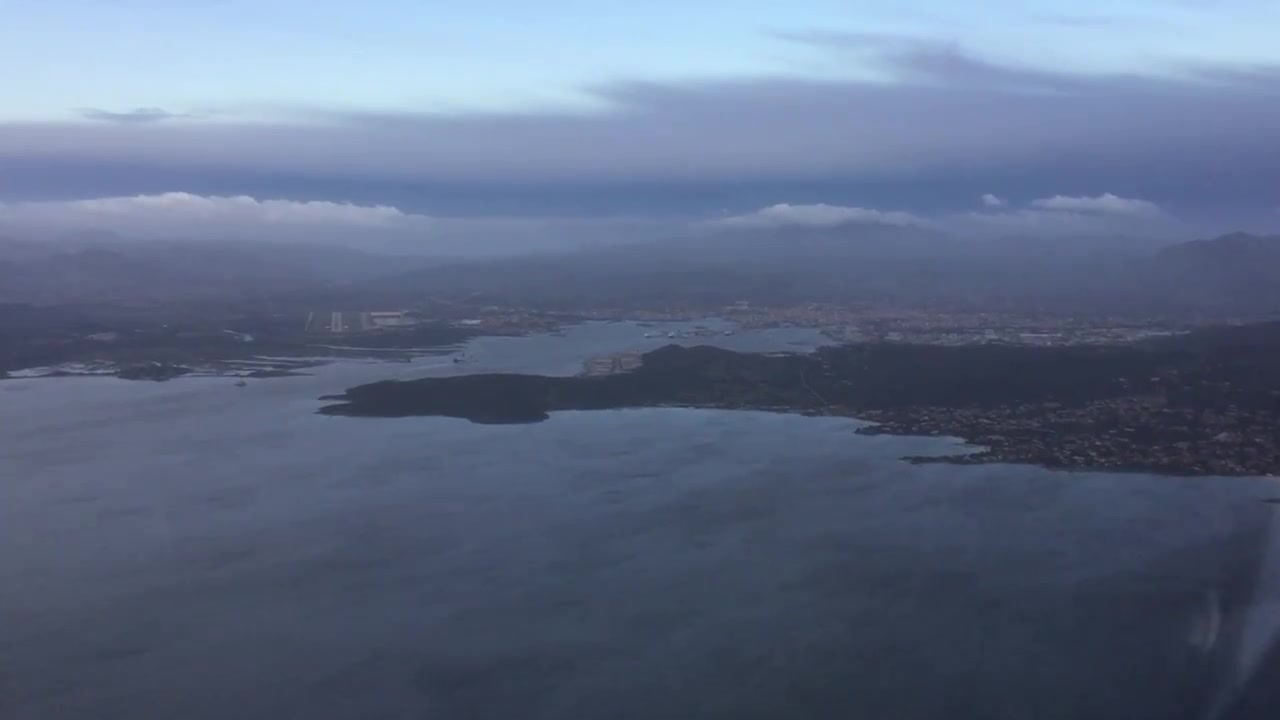runway: (328, 311, 345, 334)
